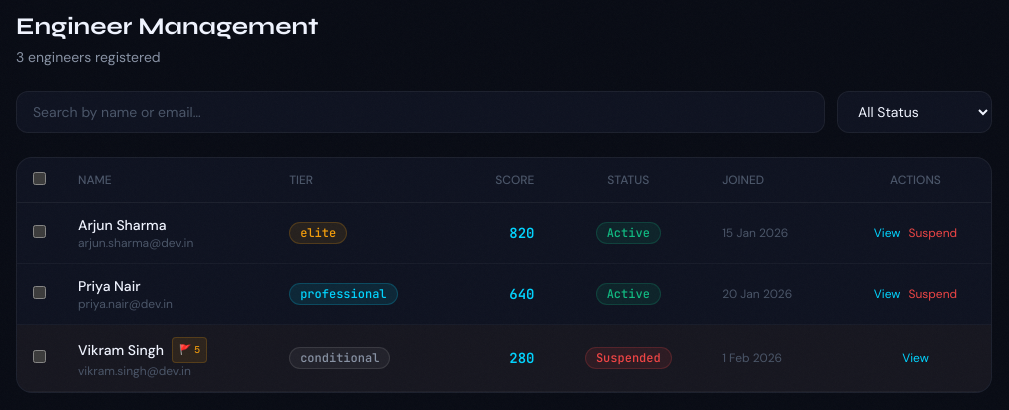
Test: Module 8: Admin Dashboard › Engineer Management › suspends an engineer
Click the button with test id "suspend-eng-2".
click(933, 294)  # box [908, 286, 957, 302]
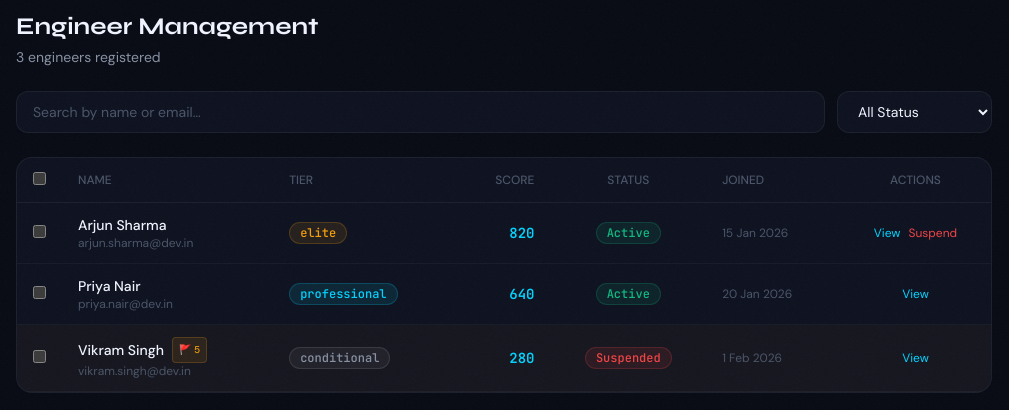
expect the button with test id "suspend-eng-2" is gone: met
